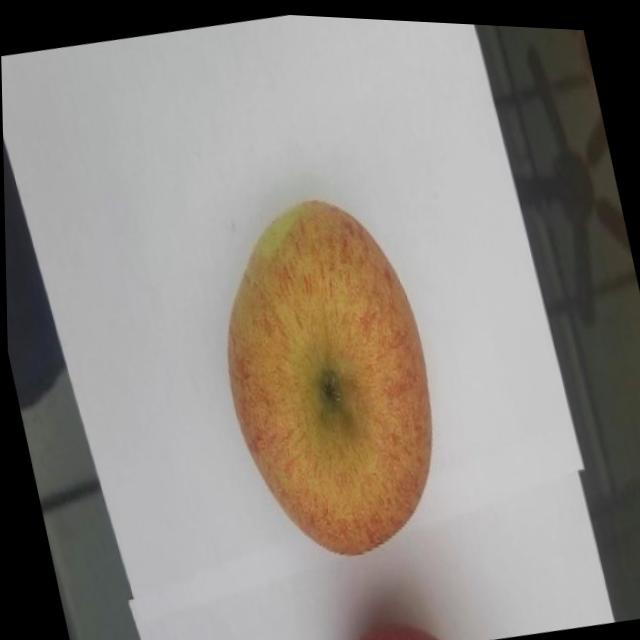Apple: (186, 177, 467, 576), (328, 604, 442, 640)
